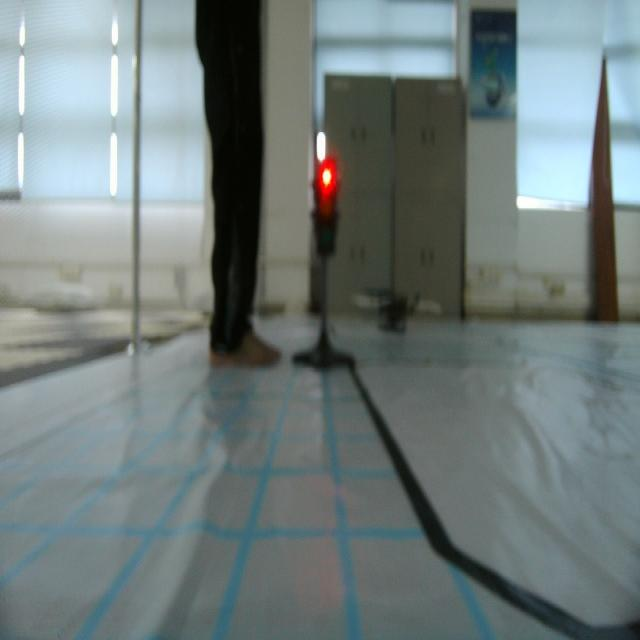red: (315, 157, 339, 261)
